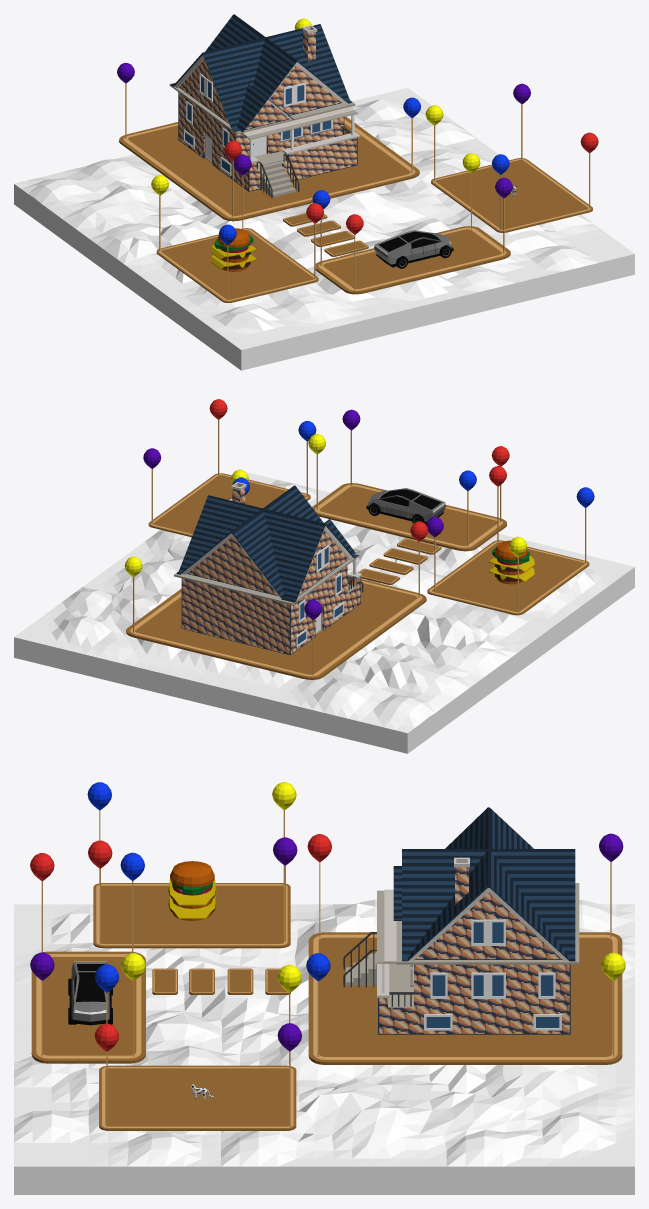
3 renders of one model, top to bottom at view 1: azimuth 30°, elevation 25°; view 2: azimuth 150°, elevation 25°; view 3: azimuth 270°, elevation 25°, orthographic. The views are drawn at different scales.
Parts seen in each view (by area): view 1: Cube.013, Cube.430, VEHICLES_CYBERTRUCK, OBJRANDOM_HAMBURGER; view 2: Cube.013, Cube.430, VEHICLES_CYBERTRUCK, OBJRANDOM_HAMBURGER; view 3: Cube.013, Cube.430, OBJRANDOM_HAMBURGER, VEHICLES_CYBERTRUCK.
Boxes of the visible parts, <box> form: Cube.013: <box>14,18,634,370</box>; Cube.430: <box>169,14,360,198</box>; VEHICLES_CYBERTRUCK: <box>374,230,453,268</box>; OBJRANDOM_HAMBURGER: <box>211,228,257,271</box>; Cube.013: <box>14,399,634,753</box>; Cube.430: <box>174,482,363,655</box>; VEHICLES_CYBERTRUCK: <box>366,488,445,524</box>; OBJRANDOM_HAMBURGER: <box>488,540,534,584</box>; Cube.013: <box>14,782,634,1194</box>; Cube.430: <box>343,807,579,1034</box>; OBJRANDOM_HAMBURGER: <box>168,861,216,920</box>; VEHICLES_CYBERTRUCK: <box>68,961,112,1025</box>.
Size of the model in its own units: 4000 by 1711 by 4000.
36 materials, 3 textured.
